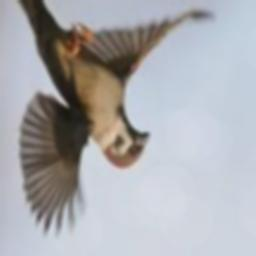Sparrow: (1, 0, 216, 239)
